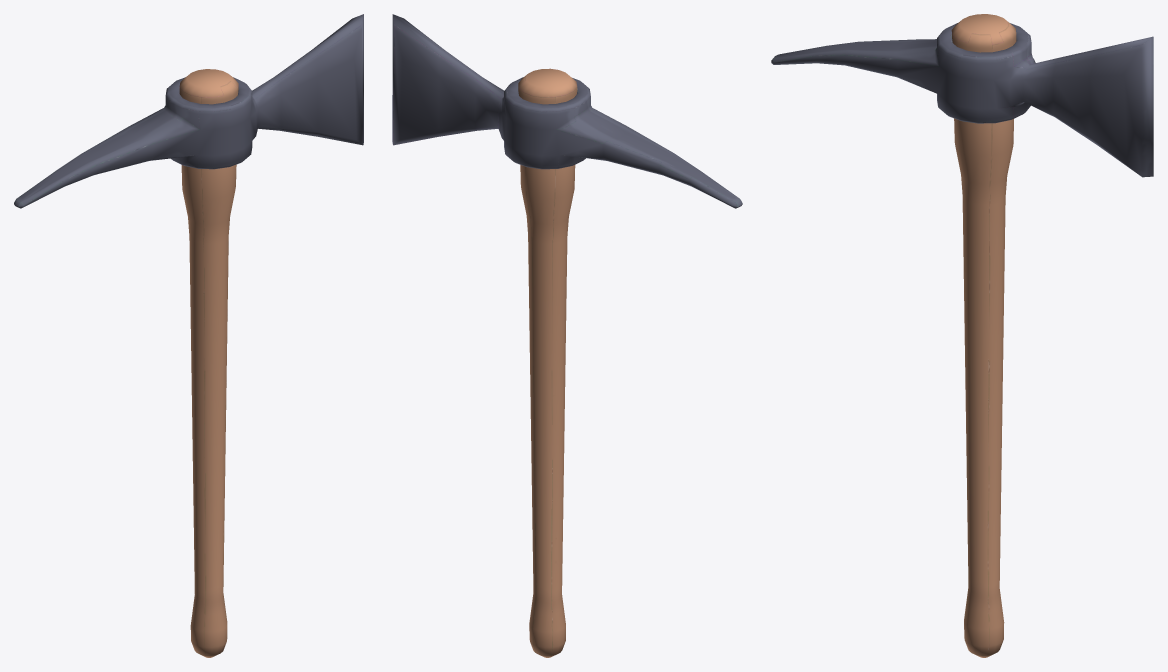
The model's file is PicaretaMachadoGenerica.fbx.
3 views of the same model, side by side, from view 1: azimuth 30°, elevation 25°; view 2: azimuth 150°, elevation 25°; view 3: azimuth 330°, elevation 25° (orthographic). The views are drawn at different scales.
Parts seen in each view (by area): view 1: Picareta-machado generica; view 2: Picareta-machado generica; view 3: Picareta-machado generica.
Boxes of the visible parts, x1,y1,x2,y2 form: Picareta-machado generica: [14, 14, 363, 657]; Picareta-machado generica: [392, 14, 742, 657]; Picareta-machado generica: [771, 14, 1153, 657].
Bounding box in the file's own units: 63.75 × 106 × 13.85.
1 material, 1 textured.
